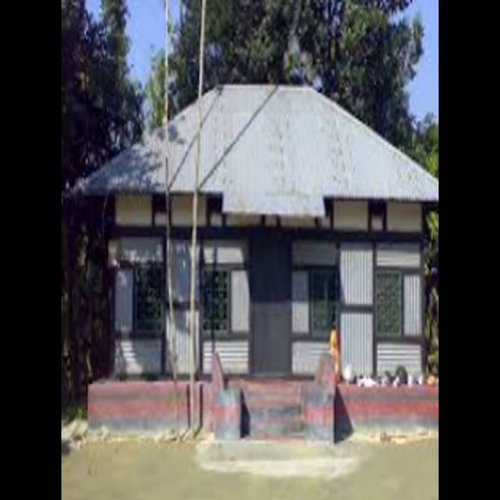Tin-shade House: (70, 71, 438, 434)
